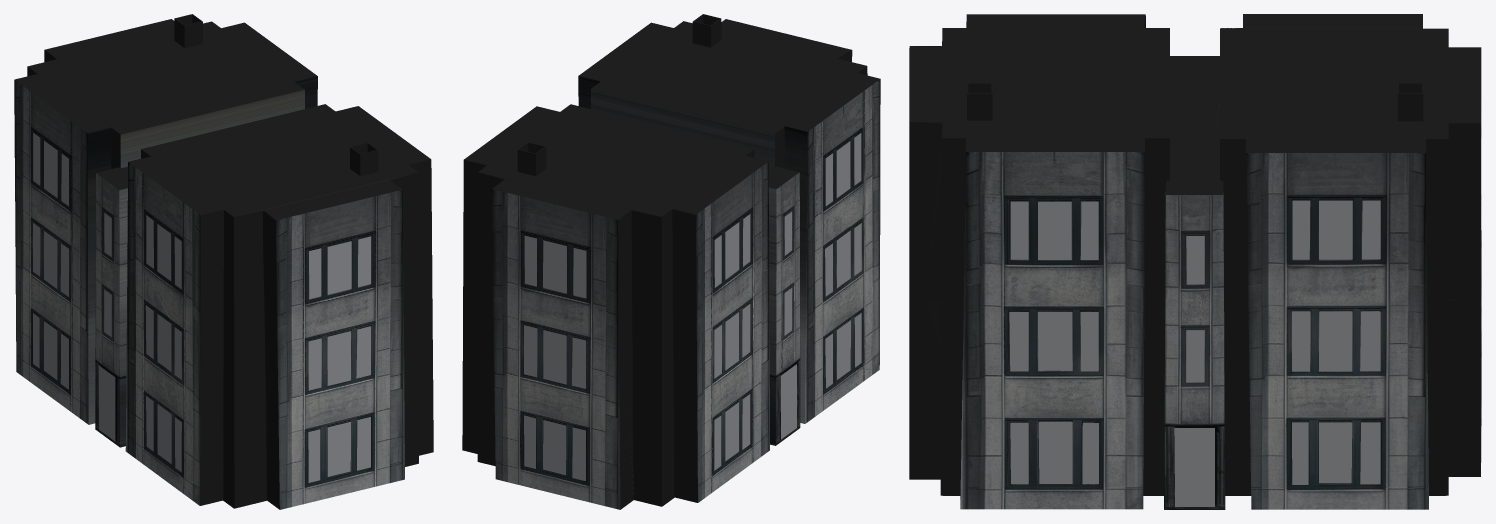
The model's file is business_city_building_3d_house.glb.
3 views of the same model, side by side, from view 1: azimuth 30°, elevation 25°; view 2: azimuth 150°, elevation 25°; view 3: azimuth 270°, elevation 25° (orthographic). The views are drawn at different scales.
Visible parts, largest first — view 1: Object_6, Object_4, Object_5; view 2: Object_6, Object_4, Object_5; view 3: Object_4, Object_6, Object_5.
Boxes of the visible parts, left/top/right/bottom form: Object_6: left=14, top=76, right=412, bottom=509; Object_4: left=14, top=14, right=433, bottom=509; Object_5: left=33, top=133, right=370, bottom=482; Object_6: left=486, top=51, right=880, bottom=509; Object_4: left=462, top=14, right=880, bottom=509; Object_5: left=524, top=133, right=861, bottom=480; Object_4: left=909, top=14, right=1481, bottom=499; Object_6: left=915, top=16, right=1481, bottom=509; Object_5: left=1009, top=139, right=1481, bottom=506.
Bounding box in the file's own units: 0.3523 × 0.4515 × 0.6079.
3 materials, 1 textured.
